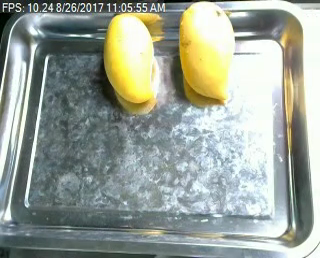Mango: (174, 2, 235, 106), (104, 12, 161, 114)
